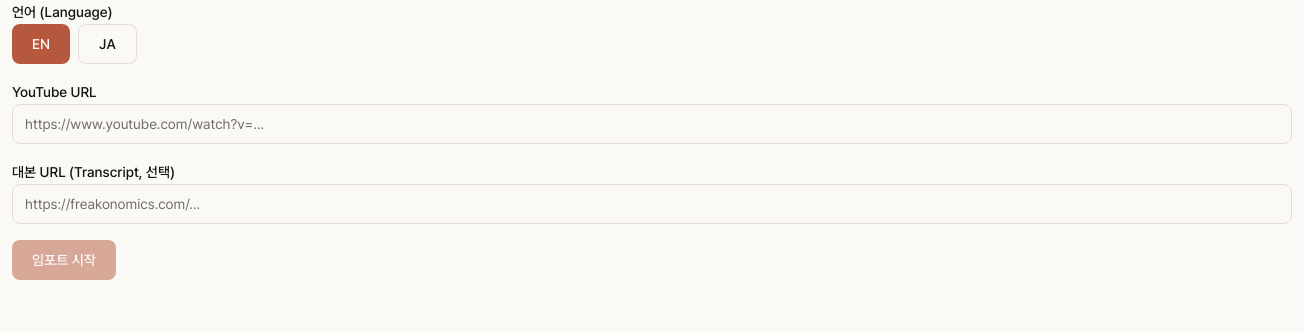
Scenario: ImportForm › should show an acceptance confirmation on 202
This screenshot has width=1304, height=333.
Type "https://www.youtube.com/watch?v=abc123" into the field labelled "YouTube URL" at (652, 124), box [12,104,1292,144]
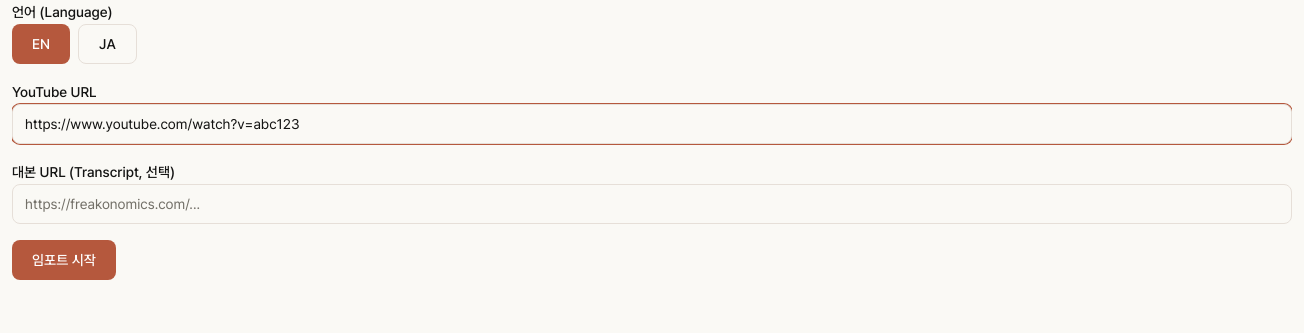
Type "https://freakonomics.com/podcast/x" into the field labelled "대본 URL (Transcript, 선택)" at (652, 204), box [12,184,1292,224]
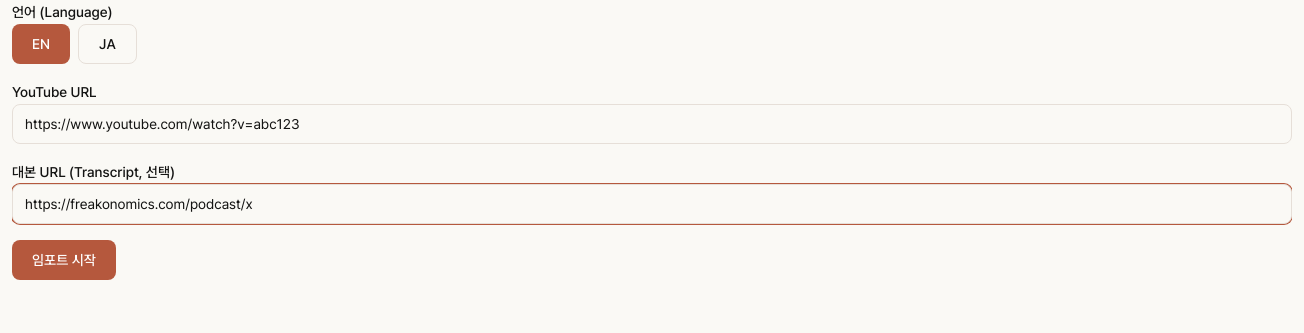
Click the button "임포트 시작" at (64, 260), box [12,240,116,280]
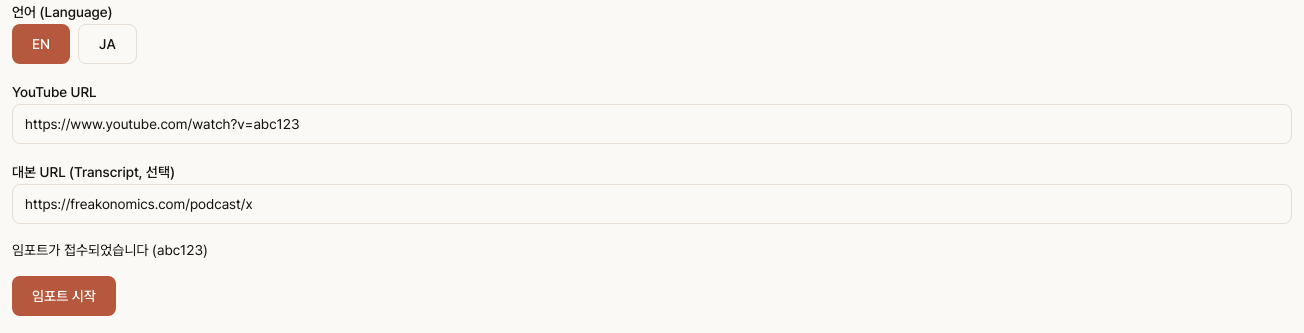
Now the message shows "접수", box [12,242,208,258]
